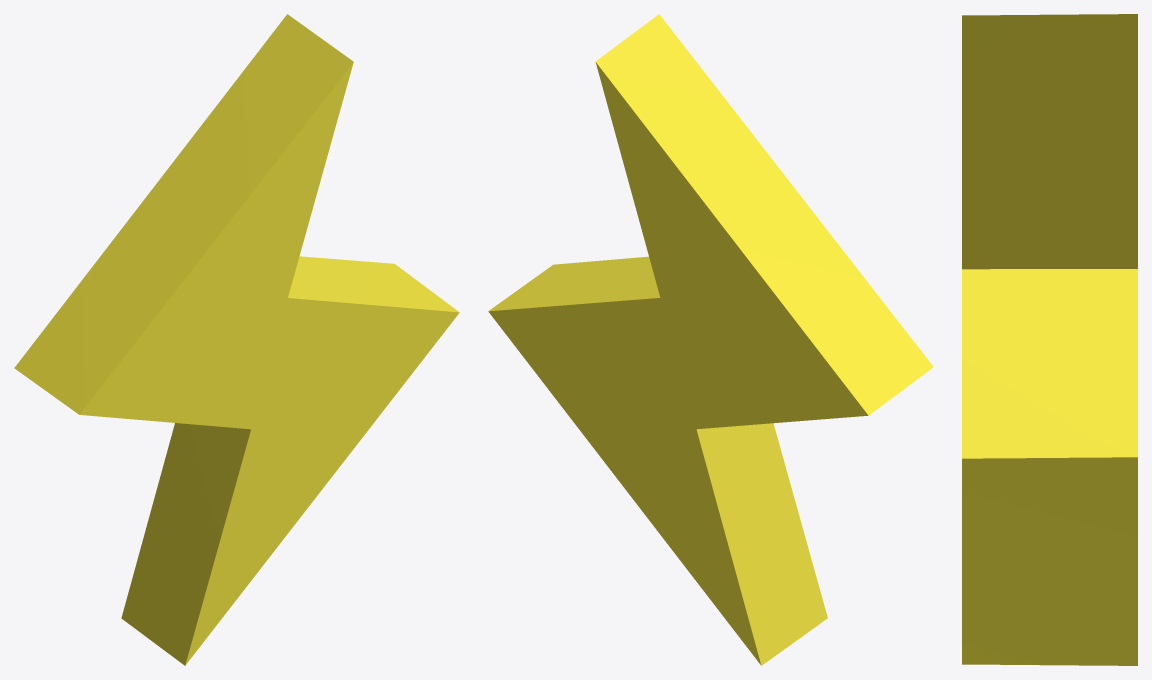
File: powerup_speed.dae
3 renders of one model, left to right at view 1: azimuth 30°, elevation 25°; view 2: azimuth 150°, elevation 25°; view 3: azimuth 270°, elevation 25°, orthographic. The views are drawn at different scales.
Parts seen in each view (by area): view 1: SI_PowerIcon; view 2: SI_PowerIcon; view 3: SI_PowerIcon.
Part boxes in pixels (<box>): SI_PowerIcon: <box>14,14,459,665</box>; SI_PowerIcon: <box>488,14,933,665</box>; SI_PowerIcon: <box>962,14,1137,665</box>.
Size of the model in its own units: 0.6749 by 0.2001 by 0.9557.
